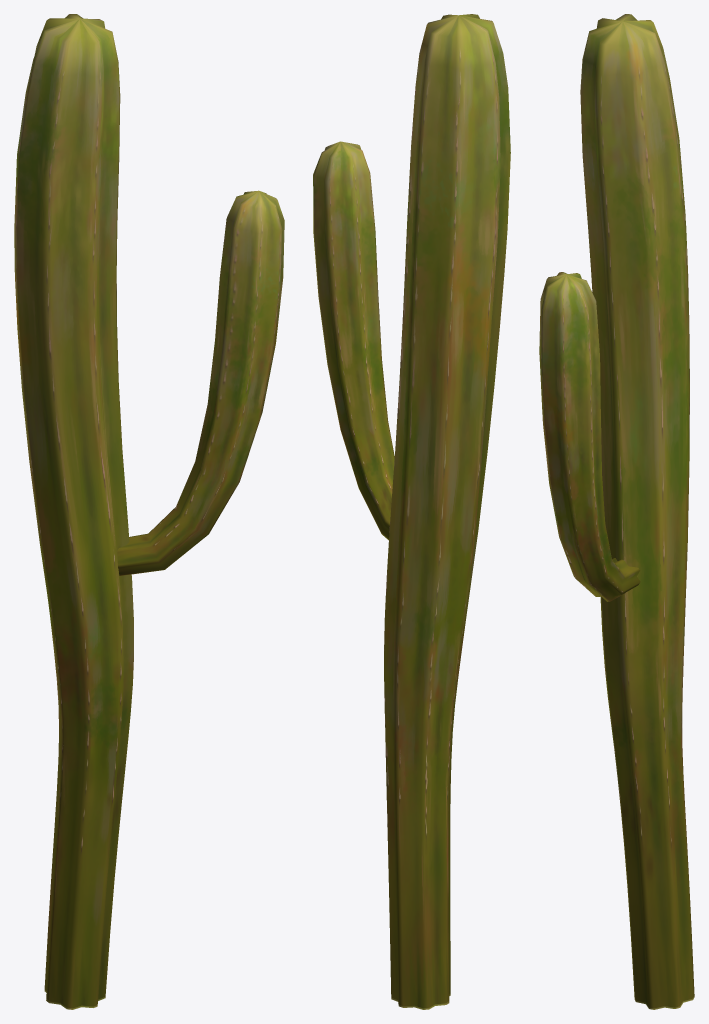
The model's file is SM_Cactus01.fbx.
3 views of the same model, side by side, from view 1: azimuth 30°, elevation 25°; view 2: azimuth 150°, elevation 25°; view 3: azimuth 270°, elevation 25° (orthographic). The views are drawn at different scales.
Parts seen in each view (by area): view 1: SM_Cactus01; view 2: SM_Cactus01; view 3: SM_Cactus01.
Part boxes in pixels (bbox=[...]): SM_Cactus01: bbox=[14, 14, 284, 1009]; SM_Cactus01: bbox=[313, 14, 510, 1009]; SM_Cactus01: bbox=[539, 14, 694, 1009].
Bounding box in the file's own units: 142 × 601 × 87.23.
